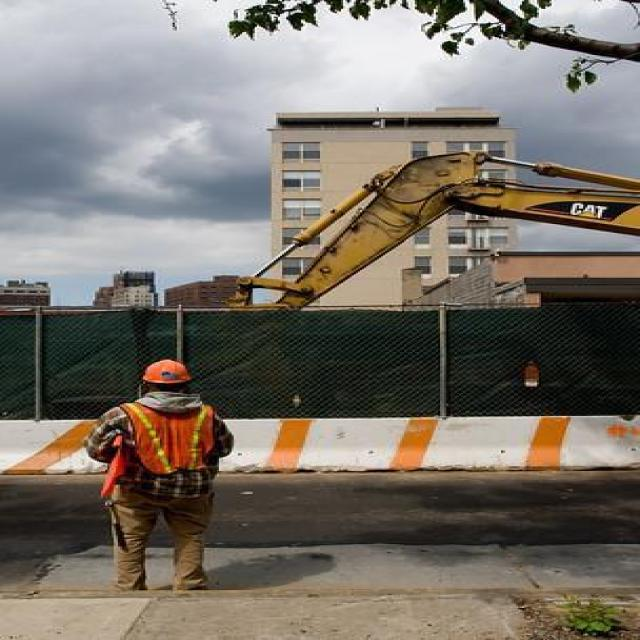Vest: (114, 394, 217, 475)
